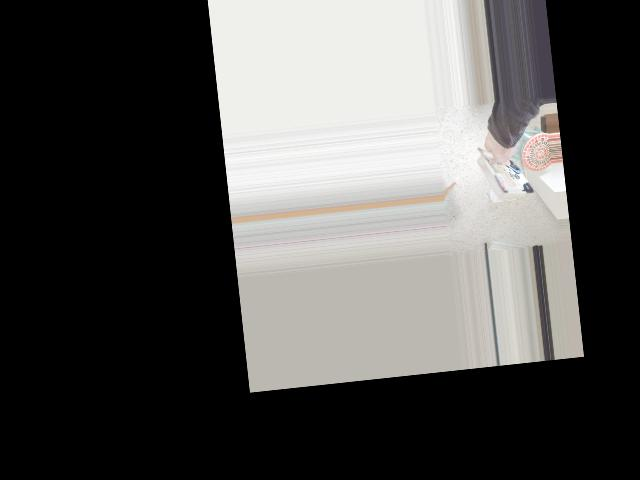cheese: (468, 128, 544, 205)
